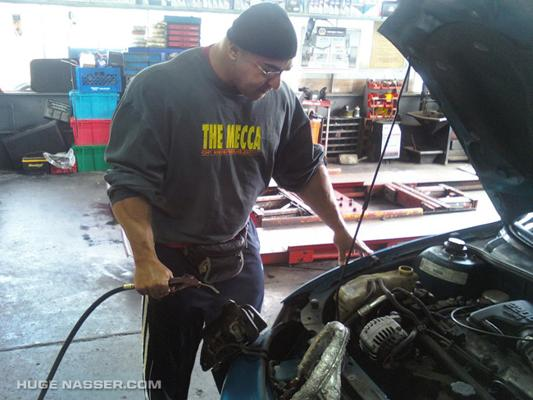person: (107, 2, 373, 400)
